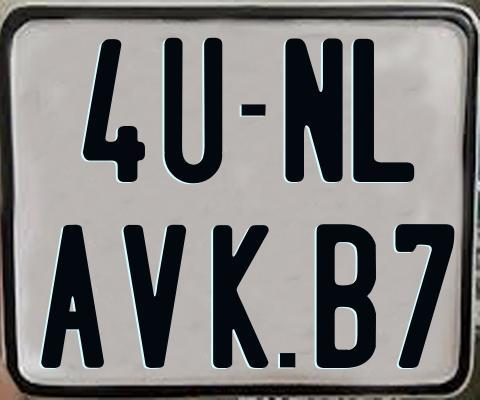4: (83, 36, 146, 183)
7: (395, 224, 455, 373)
A: (39, 225, 103, 373)
B: (317, 222, 377, 367)
K: (212, 223, 272, 369)
L: (351, 38, 416, 183)
N: (282, 35, 345, 181)
U: (161, 38, 225, 186)
V: (122, 223, 189, 372)
